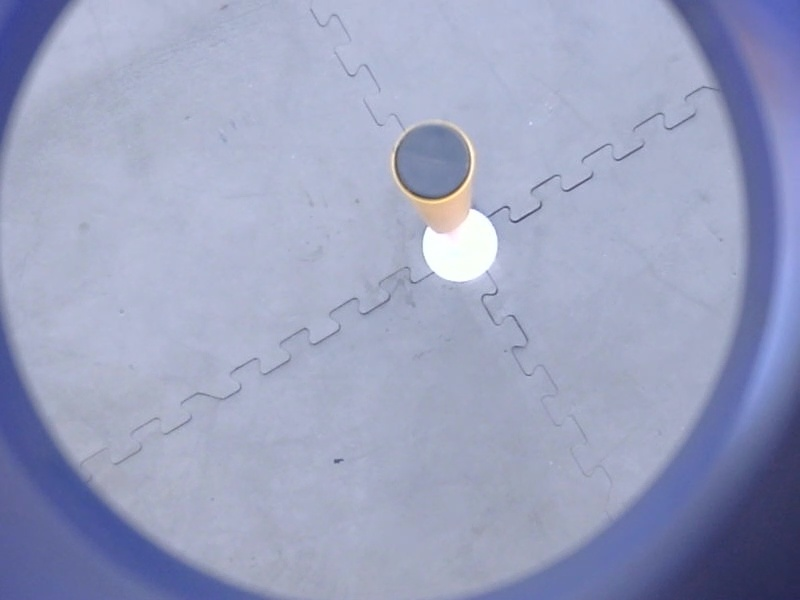tip: (384, 114, 480, 209)
